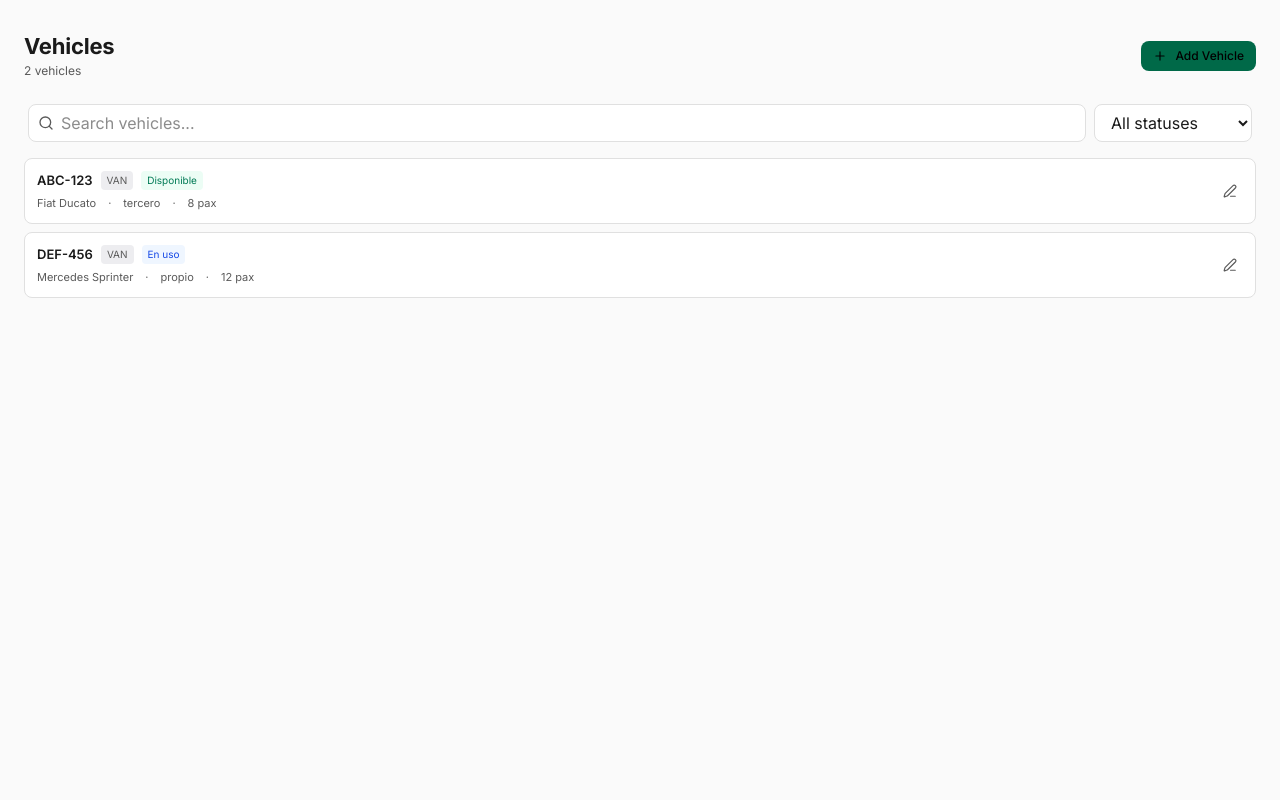
Scenario: VehicleScreen › opens edit modal with existing data
Check: the text "ABC-123" is shown, box x1=37 y1=171 x2=92 y2=190
Click the button titled "Edit" in the row of "Disponible". click: (1230, 191)
box: x1=1217 y1=178 x2=1243 y2=204
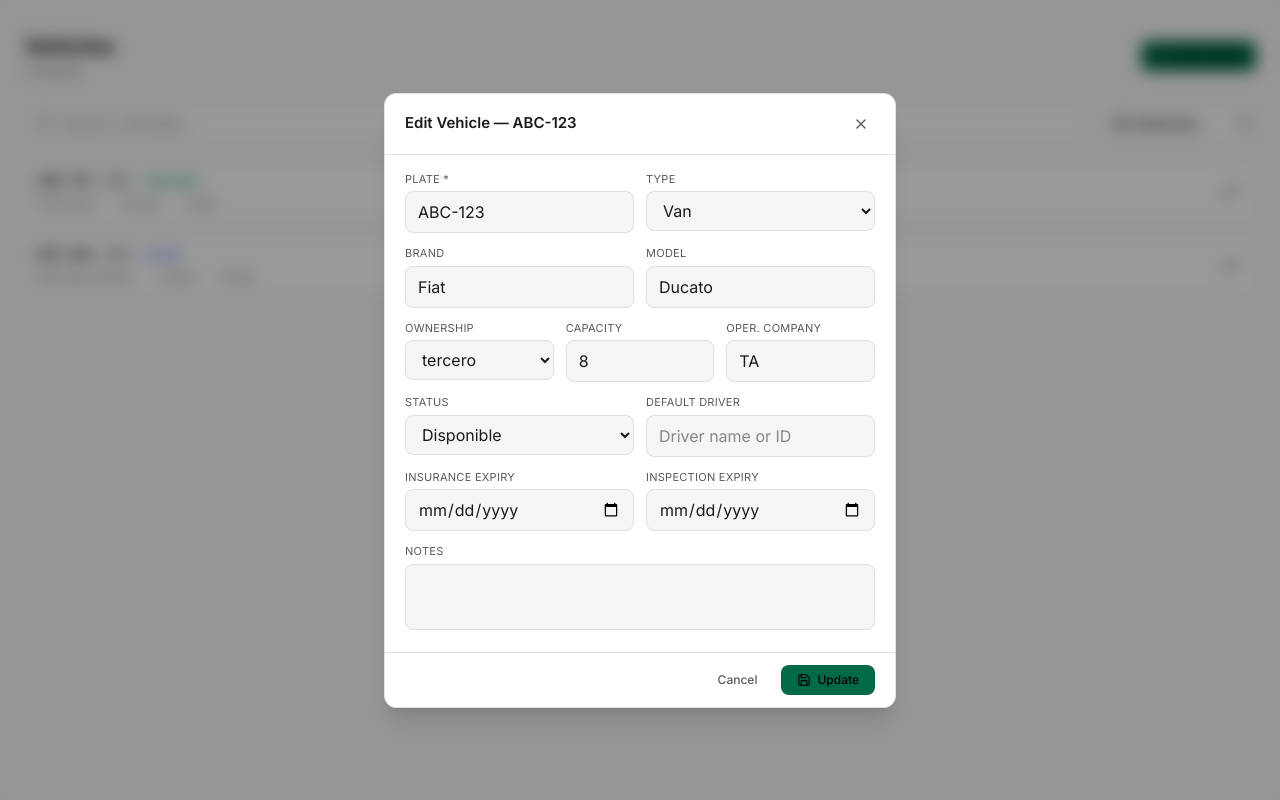
Check: the heading "Edit Vehicle — ABC-123" is shown, box x1=405 y1=112 x2=577 y2=135
